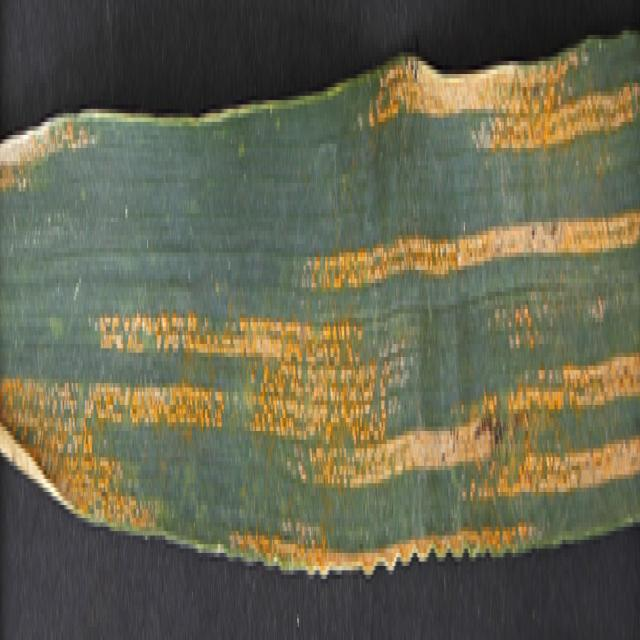leaf rust: (2, 17, 639, 566)
